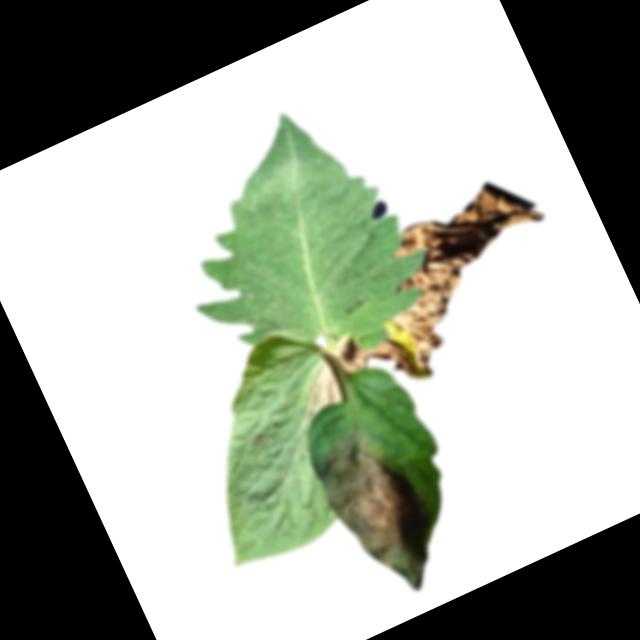Late_blight: (326, 167, 586, 397), (301, 411, 460, 612), (288, 358, 347, 418), (330, 333, 373, 377), (247, 431, 267, 453)
healthy: (134, 79, 452, 404)
